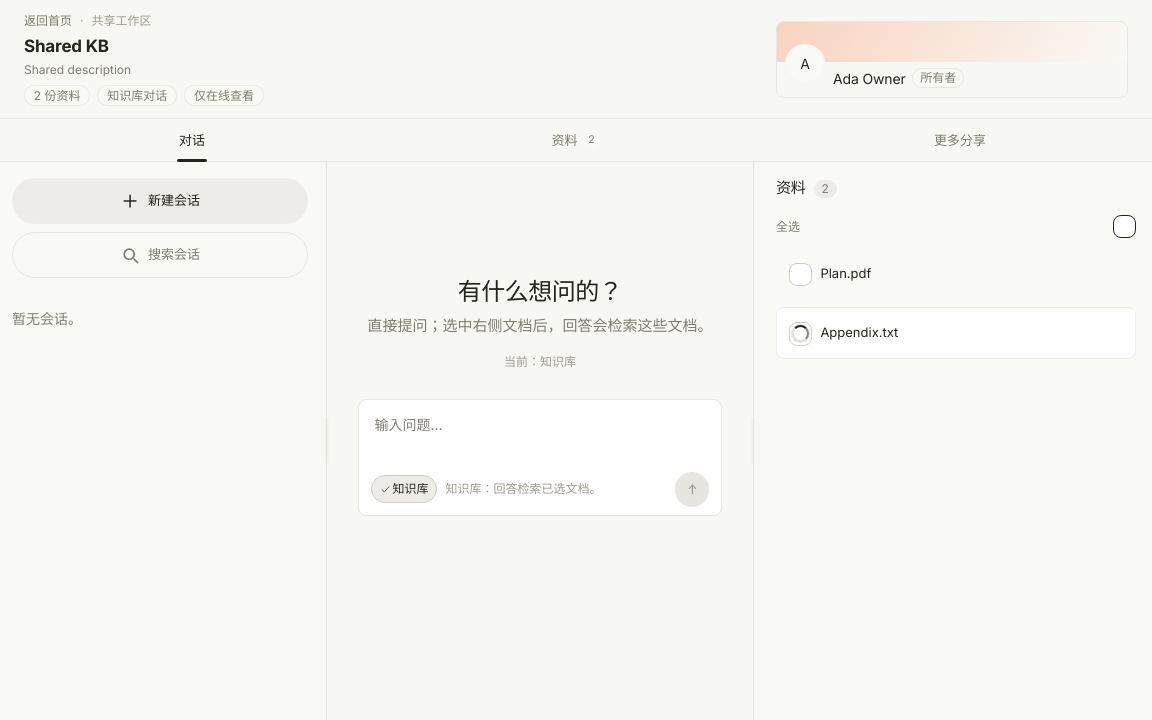
Test: SharedWorkspaceSurface › lists the owner's other public shares in the more-shares tab
What coordinates should you click on to do the following:
click the tab with test id "share-tab-shares"
I would click on:
 (960, 140)
Its box is x1=768 y1=119 x2=1151 y2=160.
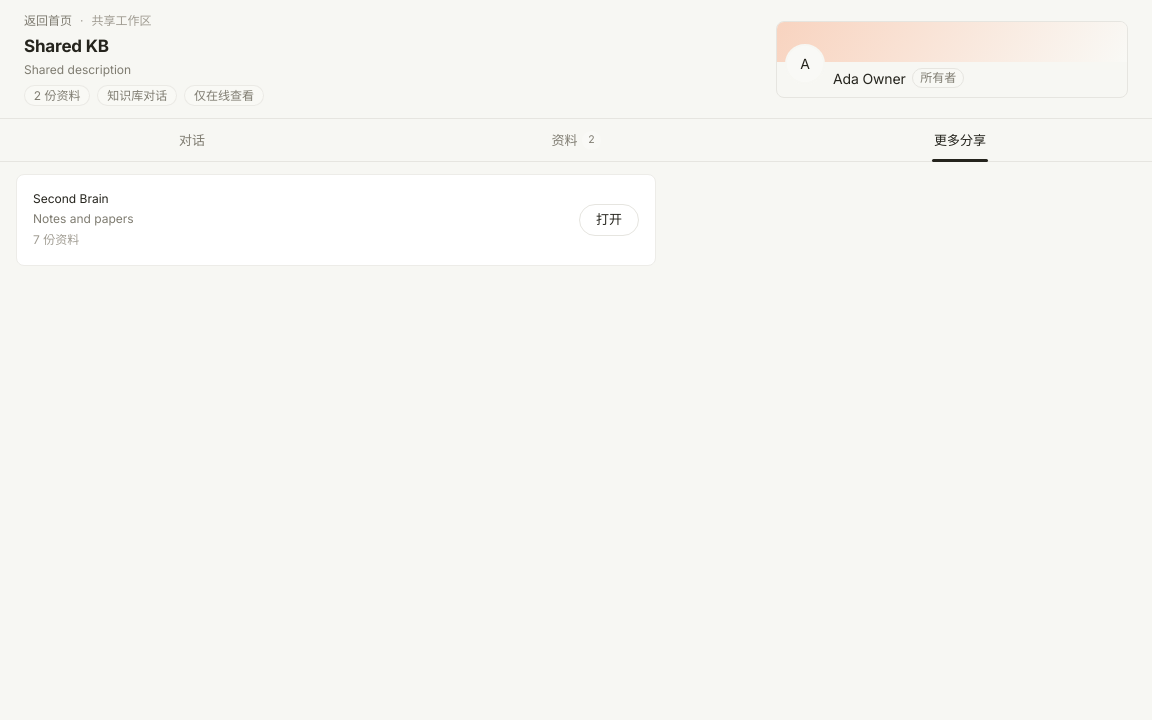
Check: the element with test id "shared-more-shares-tab" is shown, box x1=16 y1=174 x2=656 y2=266
Check: the heading "Second Brain" is shown, box x1=33 y1=190 x2=109 y2=206
